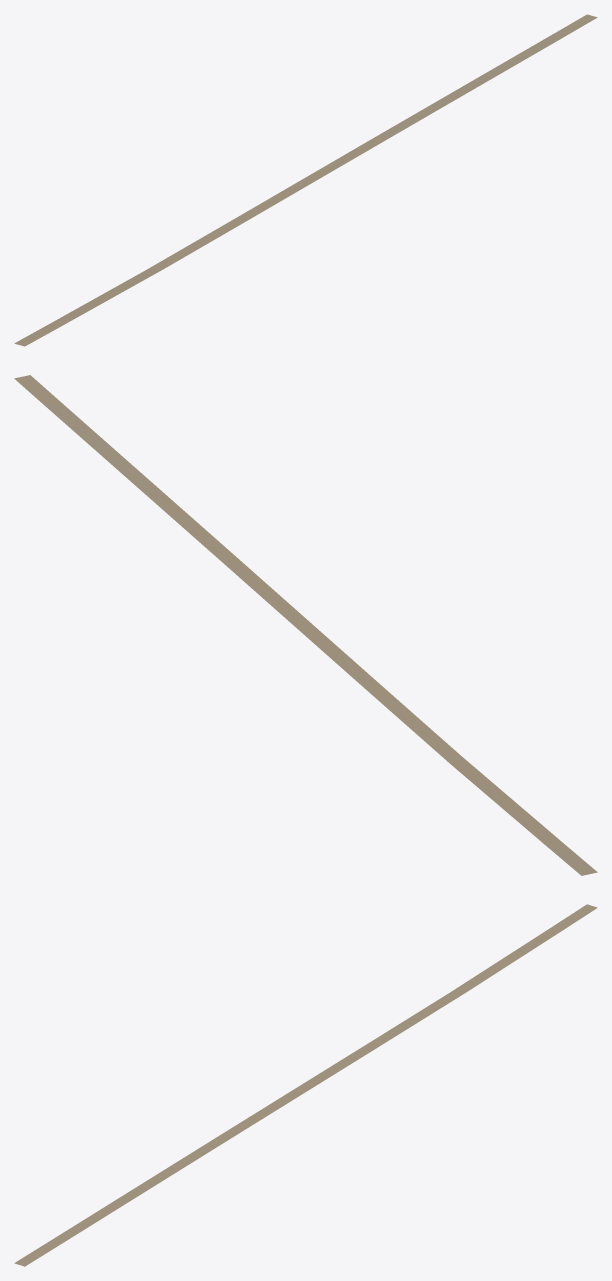
Rendered from farm_23_14_track.glb.
The picture shows the model from 3 angles, top to bottom: view 1: azimuth 90°, elevation 25°; view 2: azimuth 150°, elevation 25°; view 3: azimuth 270°, elevation 25°; orthographic projection. The views are drawn at different scales.
Parts seen in each view (by area): view 1: geometry_0; view 2: geometry_0; view 3: geometry_0.
Part boxes in pixels (x1,y1,x2,y2): geometry_0: (14, 14, 597, 346); geometry_0: (14, 375, 597, 875); geometry_0: (14, 904, 597, 1266).
Bounding box in the file's own units: 202 × 4.12 × 144.
